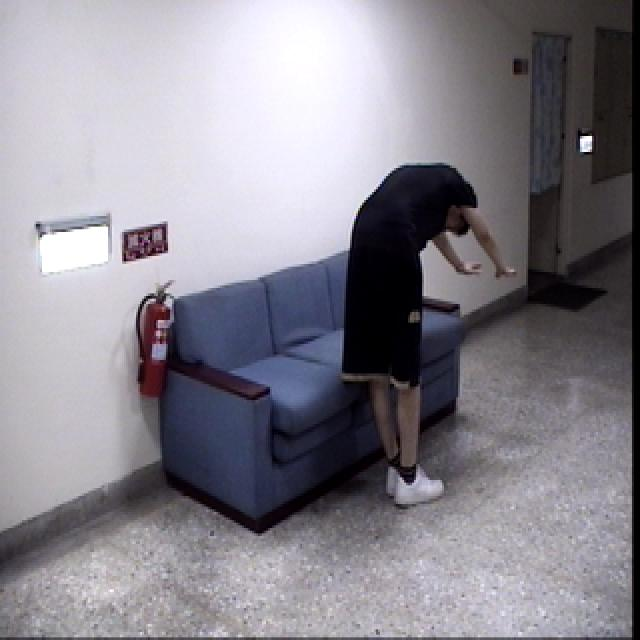bend: (336, 152, 525, 518)
